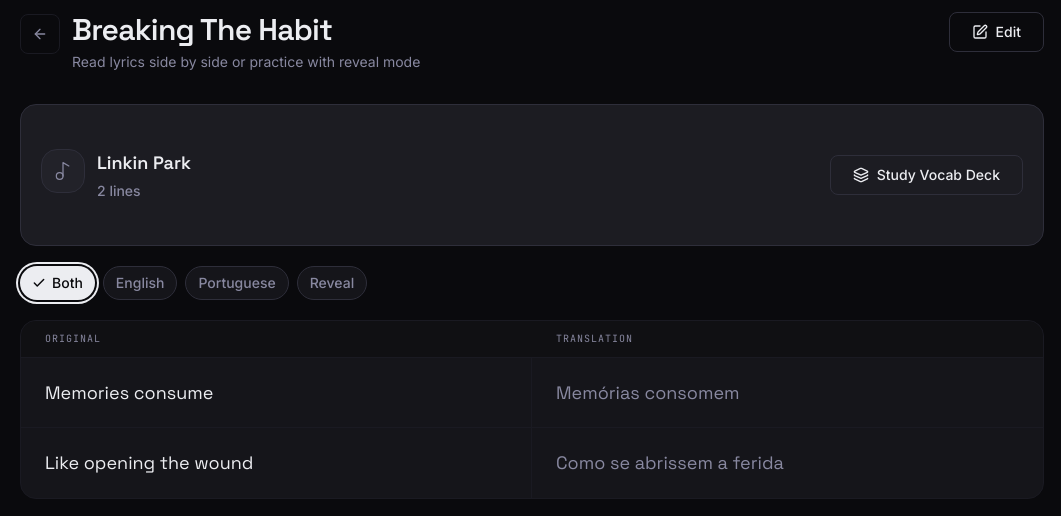
Test: LetterView › shows only english lines in english mode
Expected: the text "Memories consume" is shown, [45,381,213,404]
Click the option with test id "letter-view-mode-english".
click(140, 283)  # box [103,266,178,300]
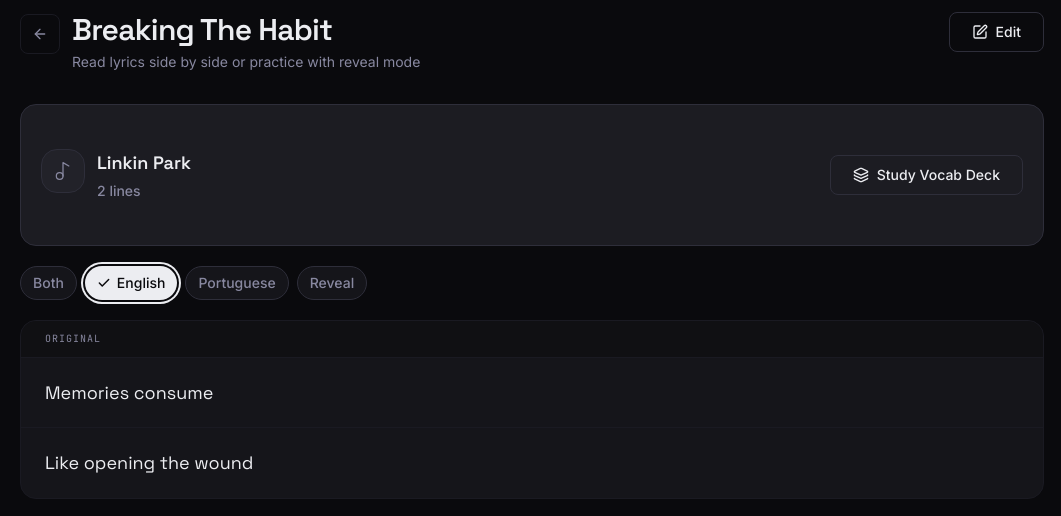
Expected: the text "Memories consume" is shown, [45,381,213,404]
Expected: the text "Memórias consomem" is gone
